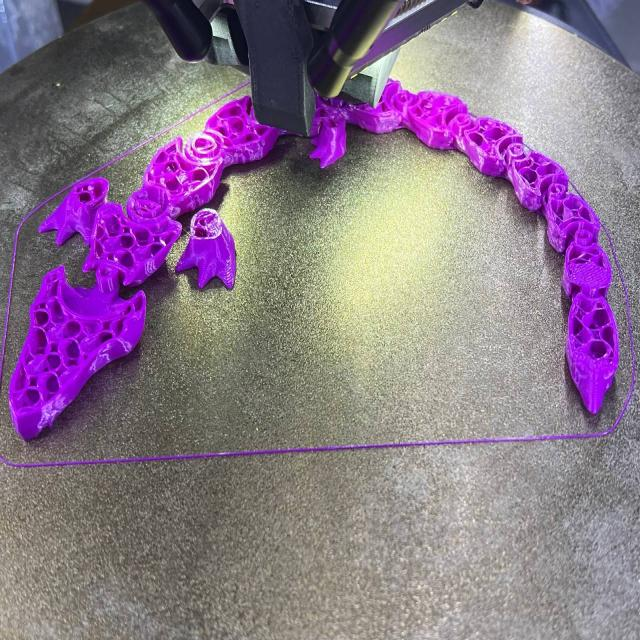Without deffect: (15, 46, 639, 461)
